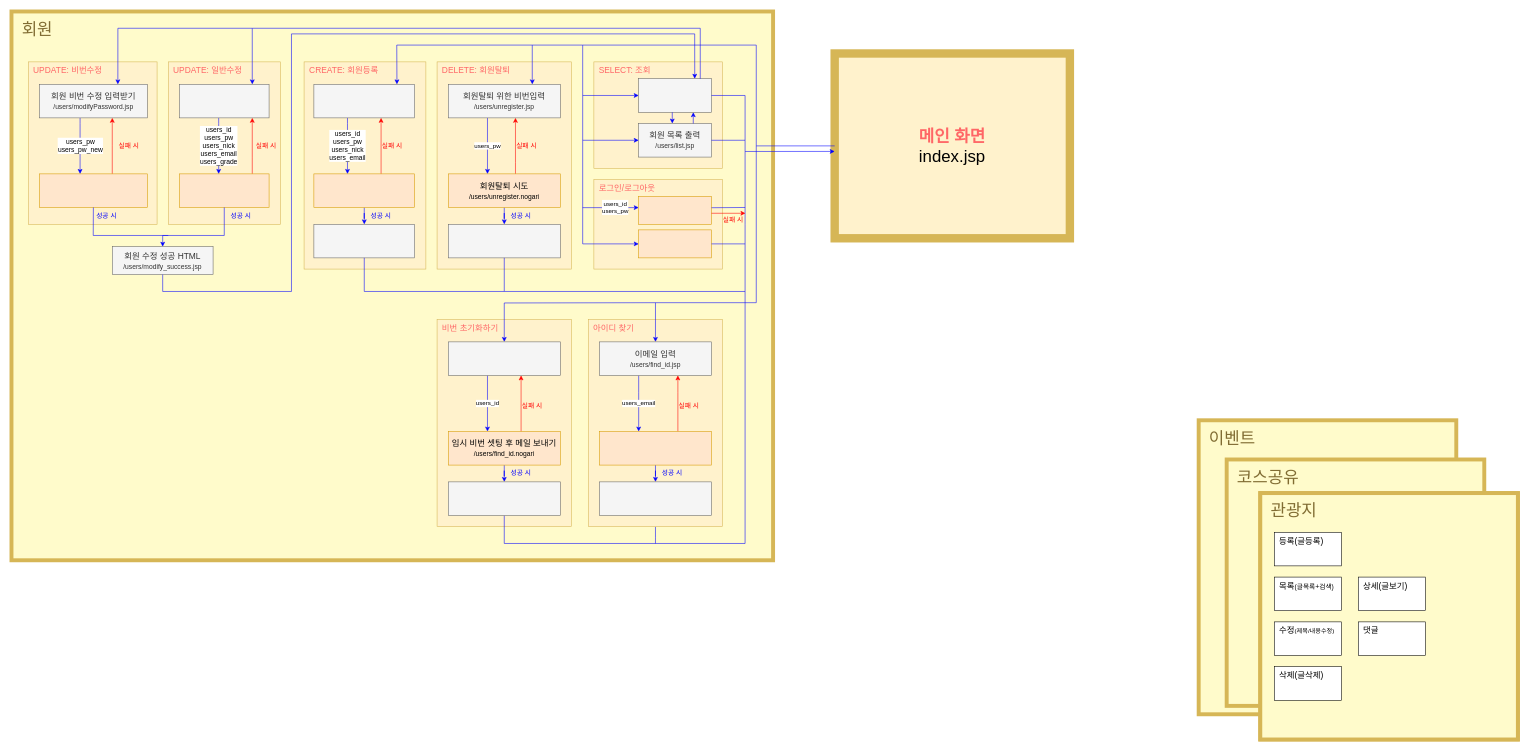
Some shapes in this 1529 by 751 pixel diagram are drawn without their labels. The shapes that lost their labels are listed below. From the top down, each one's centre as x and y in pixels, then its label:
the point at 224,101: 회원 정보 수정 입력받기 /users/modify.jsp
the point at 364,101: 회원 등록정보 입력받기 /users/register.jsp
the point at 674,95: 회원 상세 출력 /users/list.jsp
the point at 93,190: 회원 정보 수정 시도 /users/modifyPassword.nogari
the point at 224,190: 회원 정보 수정 시도 /users/modify.nogari
the point at 364,190: 회원등록 시도 /users/register.nogari
the point at 674,210: 로그인 실시 /users/login.nogari
the point at 364,241: 회원등록 성공 HTML /users/register_success.jsp
the point at 504,241: 회원탈퇴 성공 HTML /users/unregister_success.jsp
the point at 674,243: 로그아웃 실시 /login/logout.nogari
the point at 504,358: 아이디 입력 /users/reset_pw.jsp
the point at 655,448: 아이디 메일로 보내기 /users/find_id.nogari
the point at 504,498: 메일보내기 성공 HTML /users/find_id_mail_success.jsp
the point at 655,498: 아이디 보여주는 HTML /users/find_id.jsp
